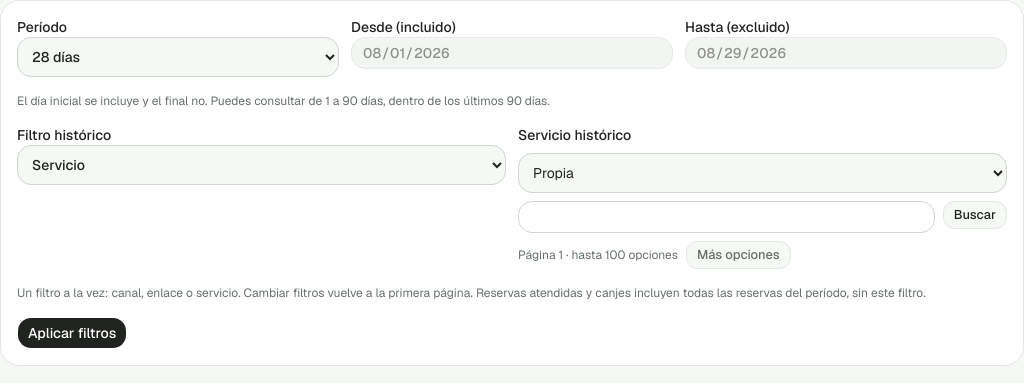
Test: actual analytics management controls › continues bounded choices, searches from page one and exposes failures without changing metrics
Step 1. Click the button "Más opciones" → point(738, 255), box [686,241,791,269]
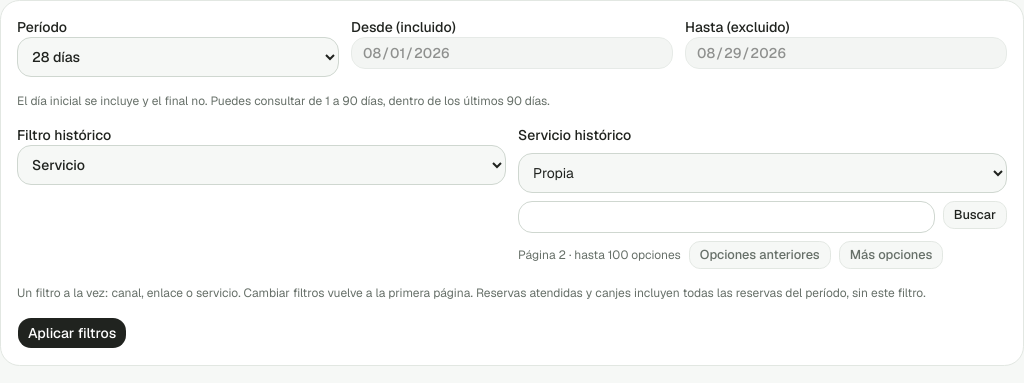
Step 2. Click the button "Buscar" → point(975, 215), box [943,201,1007,229]
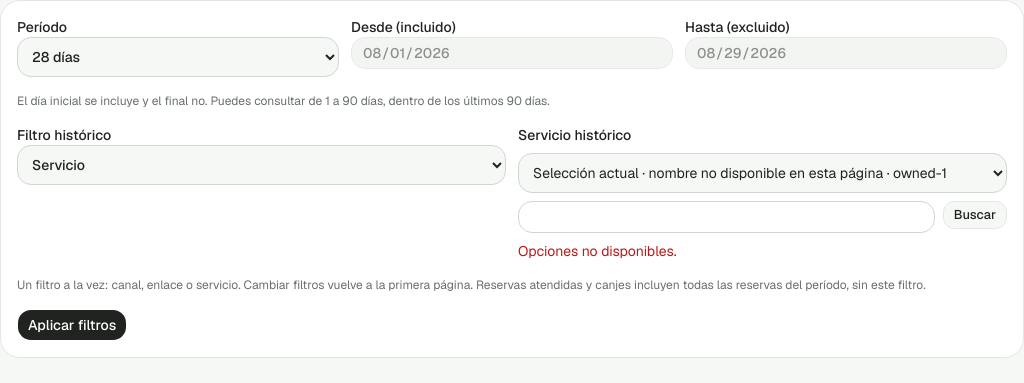
Expected: the message "Opciones no disponibles." is shown, [518,242,677,260]
